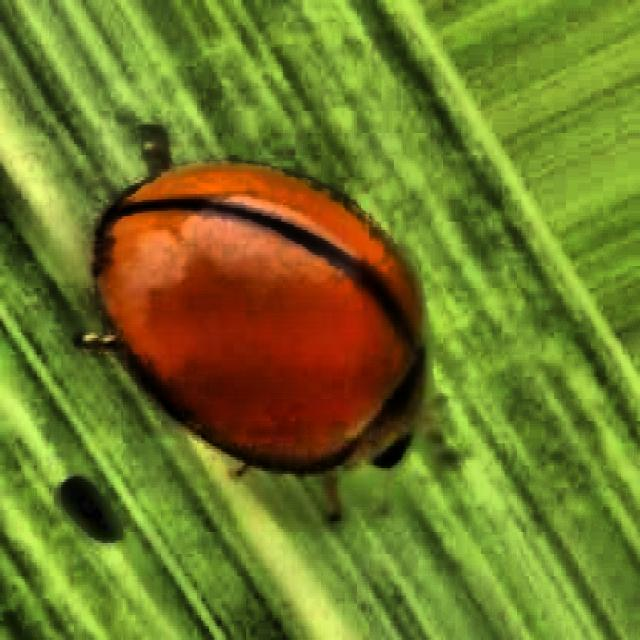Ladybug: (31, 76, 482, 587)
